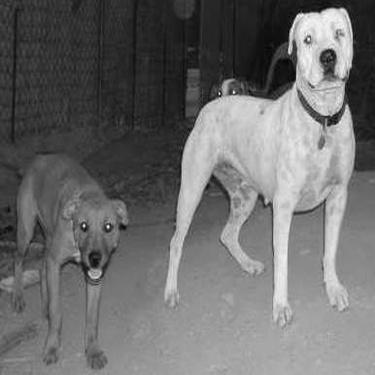dog: (155, 2, 362, 330), (2, 134, 136, 371), (207, 37, 305, 119)
